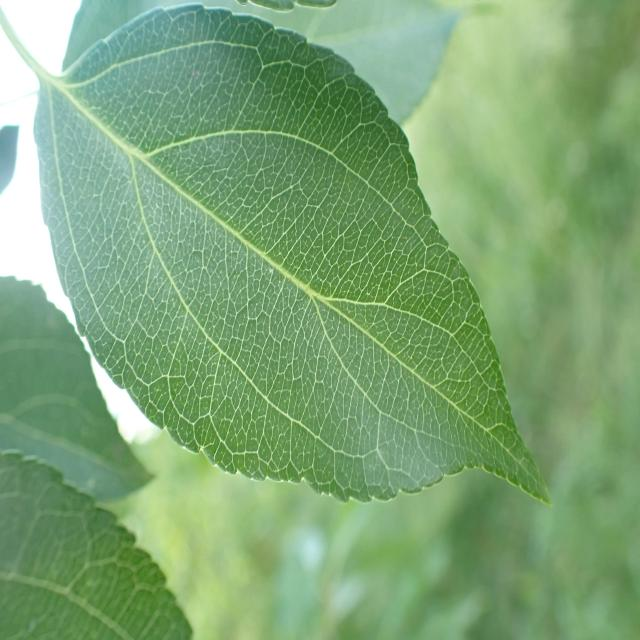healthy: (34, 4, 551, 507), (1, 450, 194, 640)
